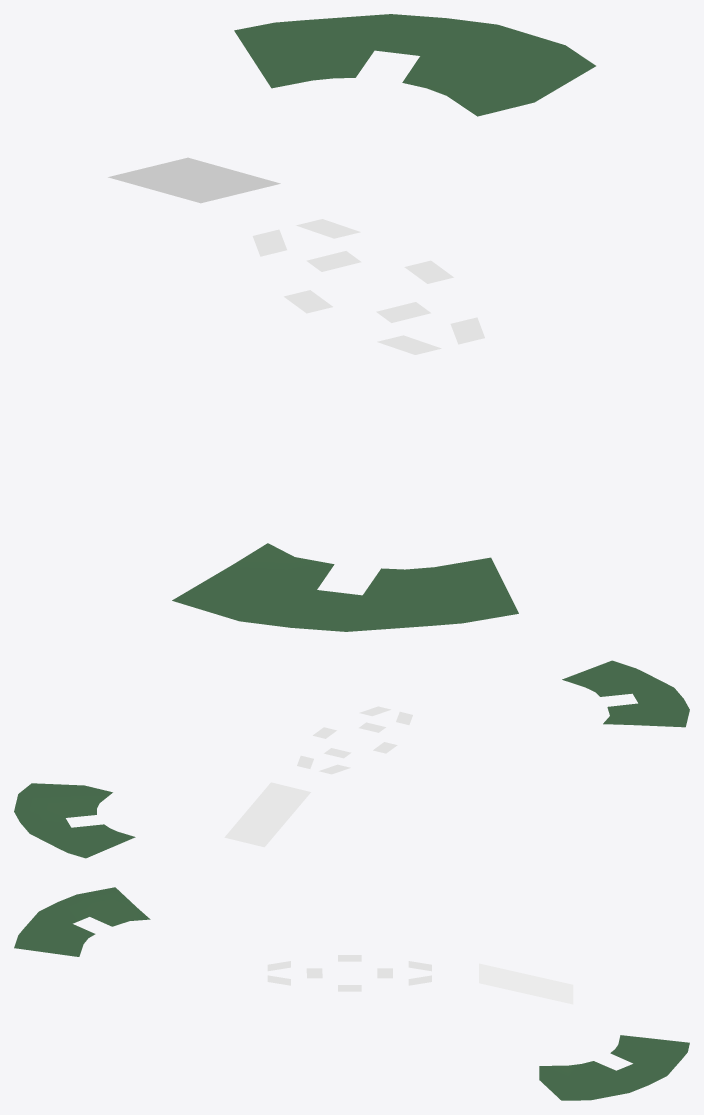
File: wooden_ground.glb
The picture shows the model from 3 angles, top to bottom: view 1: azimuth 30°, elevation 25°; view 2: azimuth 150°, elevation 25°; view 3: azimuth 270°, elevation 25°; orthographic projection. The views are drawn at different scales.
Parts seen in each view (by area): view 1: transparence2.png__, stktex_generic_WoodA.png__; view 2: transparence2.png__, stktex_generic_WoodA.png__; view 3: transparence2.png__, stktex_generic_WoodA.png__.
Part boxes in pixels (<box>): transparence2.png__: <box>172,14,595,631</box>; stktex_generic_WoodA.png__: <box>108,157,484,354</box>; transparence2.png__: <box>14,660,689,858</box>; stktex_generic_WoodA.png__: <box>224,706,412,847</box>; transparence2.png__: <box>14,887,689,1100</box>; stktex_generic_WoodA.png__: <box>267,955,573,1004</box>.
Size of the model in its own units: 323 by 15.05 by 432.
2 materials, 1 textured.
